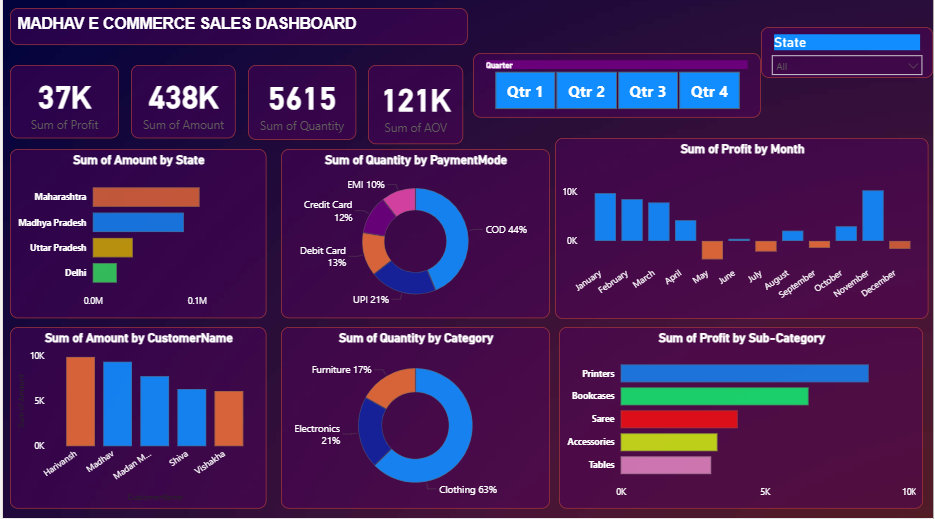

This screenshot's page, from the dashboard's own definition file:
{"tool":"powerbi","page":{"name":"Page 1","canvas":[1280,720],"ordinal":0},"visuals":[{"type":"textbox","box":[10,18.6,630,51.4],"z":0},{"type":"columnChart","fields":{"Category":["Orders.Order Date.Variation.Date Hierarchy.Month"],"Y":["Details.Profit"]},"box":[760,197.1,514.3,248.6],"z":1000},{"type":"barChart","fields":{"Category":["Details.Sub-Category"],"Y":["Details.Profit"]},"box":[765.7,457.1,501.4,250],"z":2000},{"type":"donutChart","fields":{"Category":["Details.Category"],"Y":["Details.Quantity"]},"box":[382.9,457.1,370,250],"z":3000},{"type":"donutChart","fields":{"Category":["Details.PaymentMode"],"Y":["Details.Quantity"]},"box":[382.9,211.4,370,232.9],"z":4000},{"type":"card","fields":{"Values":["Details.Amount"]},"box":[175.7,95.7,144.3,101.4],"z":5000},{"type":"card","fields":{"Values":["Details.Profit"]},"box":[10,95.7,150,101.4],"z":6000},{"type":"card","fields":{"Values":["Details.Quantity"]},"box":[337.1,95.7,148.6,102.9],"z":7000},{"type":"card","fields":{"Values":["Details.AOV"]},"box":[502.9,95.7,131.4,108.6],"z":8000},{"type":"barChart","fields":{"Y":["Details.Amount"],"Category":["Orders.State"]},"box":[10,211.4,352.9,232.9],"z":9000},{"type":"columnChart","fields":{"Category":["Orders.CustomerName"],"Y":["Details.Amount"]},"box":[10,457.1,352.9,250],"z":10000},{"type":"slicer","fields":{"Values":["Orders.Order Date.Variation.Date Hierarchy.Quarter"]},"box":[647.1,80,395.7,88.6],"z":11000},{"type":"slicer","fields":{"Values":["Orders.State"]},"box":[1042.9,44.3,237.1,70],"z":12000}]}

Visuals, with their boxes in screenshot pixels (x1, y1, x2, y2), scaled from the page's 1280x720 canvas onto the 935x519 screenshot:
textbox: left=7, top=13, right=468, bottom=50
columnChart - Orders.Order Date.Variation.Date Hierarchy.Month x Details.Profit: left=555, top=142, right=931, bottom=321
barChart - Details.Sub-Category x Details.Profit: left=559, top=329, right=926, bottom=510
donutChart - Details.Category x Details.Quantity: left=280, top=329, right=550, bottom=510
donutChart - Details.PaymentMode x Details.Quantity: left=280, top=152, right=550, bottom=320
card - Details.Amount: left=128, top=69, right=234, bottom=142
card - Details.Profit: left=7, top=69, right=117, bottom=142
card - Details.Quantity: left=246, top=69, right=355, bottom=143
card - Details.AOV: left=367, top=69, right=463, bottom=147
barChart - Details.Amount x Orders.State: left=7, top=152, right=265, bottom=320
columnChart - Orders.CustomerName x Details.Amount: left=7, top=329, right=265, bottom=510
slicer - Orders.Order Date.Variation.Date Hierarchy.Quarter: left=473, top=58, right=762, bottom=122
slicer - Orders.State: left=762, top=32, right=934, bottom=82
